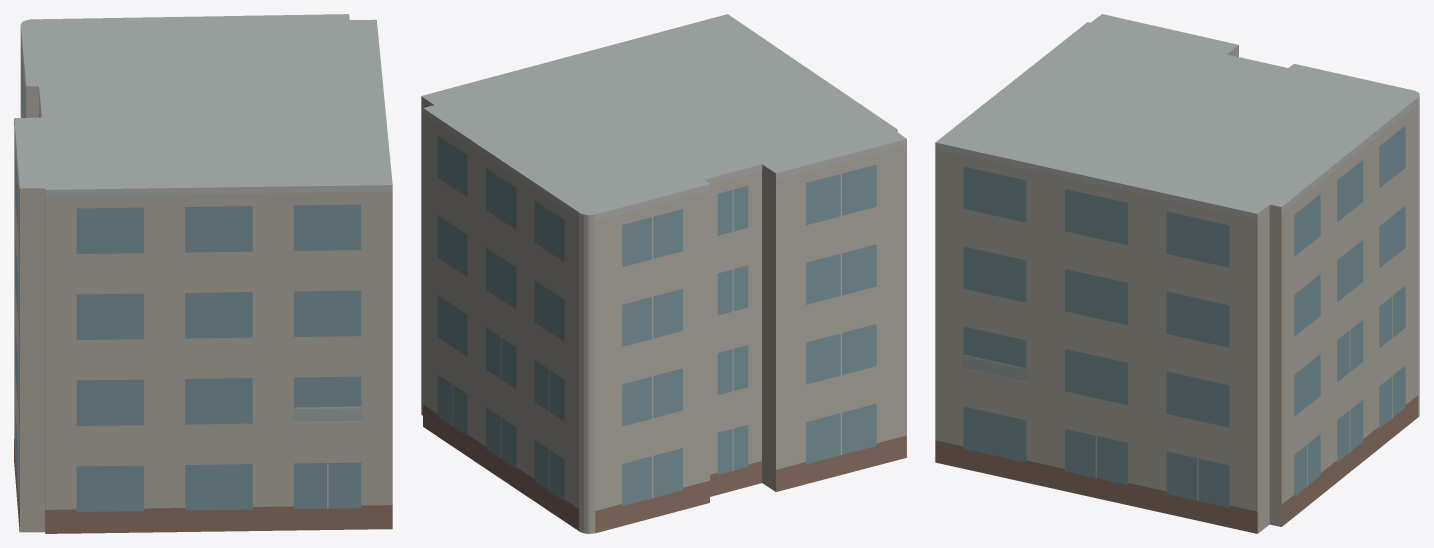
Rendered from survey-upis-32670721.glb.
The picture shows the model from 3 angles, left to right: view 1: azimuth 30°, elevation 25°; view 2: azimuth 150°, elevation 25°; view 3: azimuth 270°, elevation 25°; orthographic projection. The views are drawn at different scales.
Visible parts, largest first — view 1: survey-upis-32670721.tmp; view 2: survey-upis-32670721.tmp; view 3: survey-upis-32670721.tmp.
Boxes of the visible parts, x1,y1,x2,y2 form: survey-upis-32670721.tmp: (14,14,392,533); survey-upis-32670721.tmp: (421,14,906,533); survey-upis-32670721.tmp: (935,14,1419,533).
Bounding box in the file's own units: 16.83 × 12.55 × 17.23.
